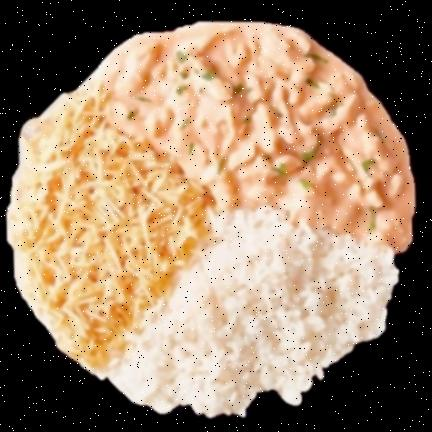chicken: (104, 22, 413, 250)
potato: (12, 87, 206, 370)
rice: (112, 209, 397, 416)
